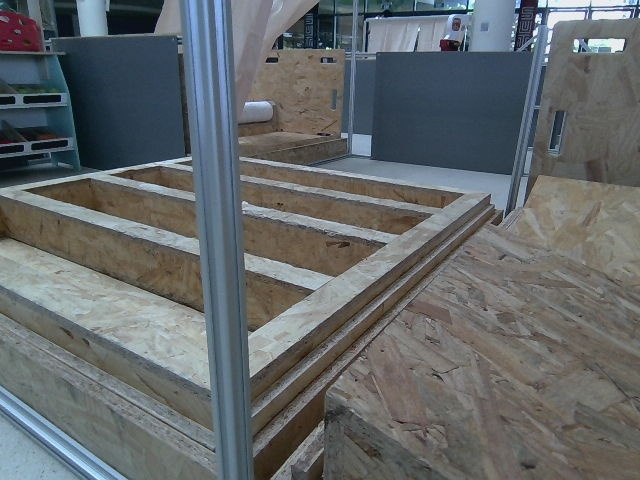curtain: (243, 0, 371, 48)
